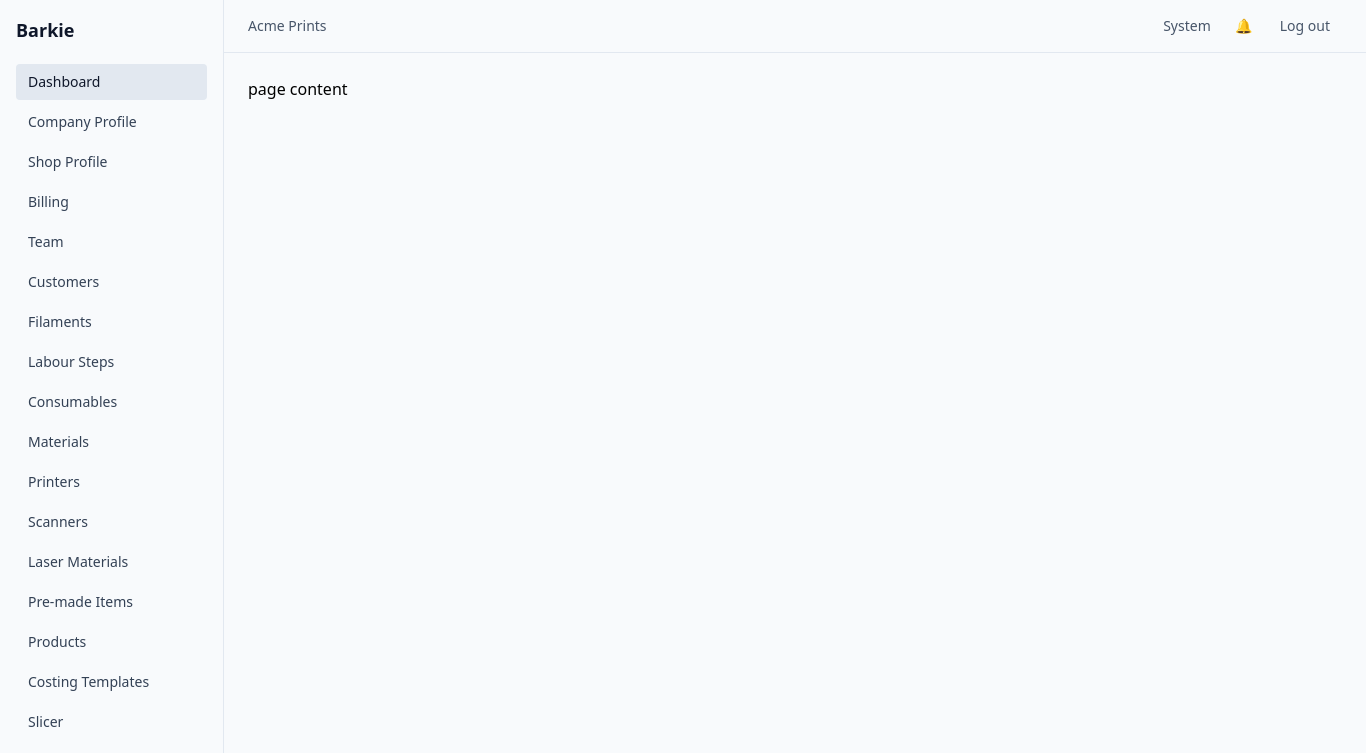
Test: AppShell › renders a theme toggle in the header and cycles its label when clicked
Expected: the text "Acme Prints" is shown, [248, 16, 327, 36]
Click the button with aria-label "Theme: System".
click(1187, 26)  # box [1155, 12, 1219, 40]
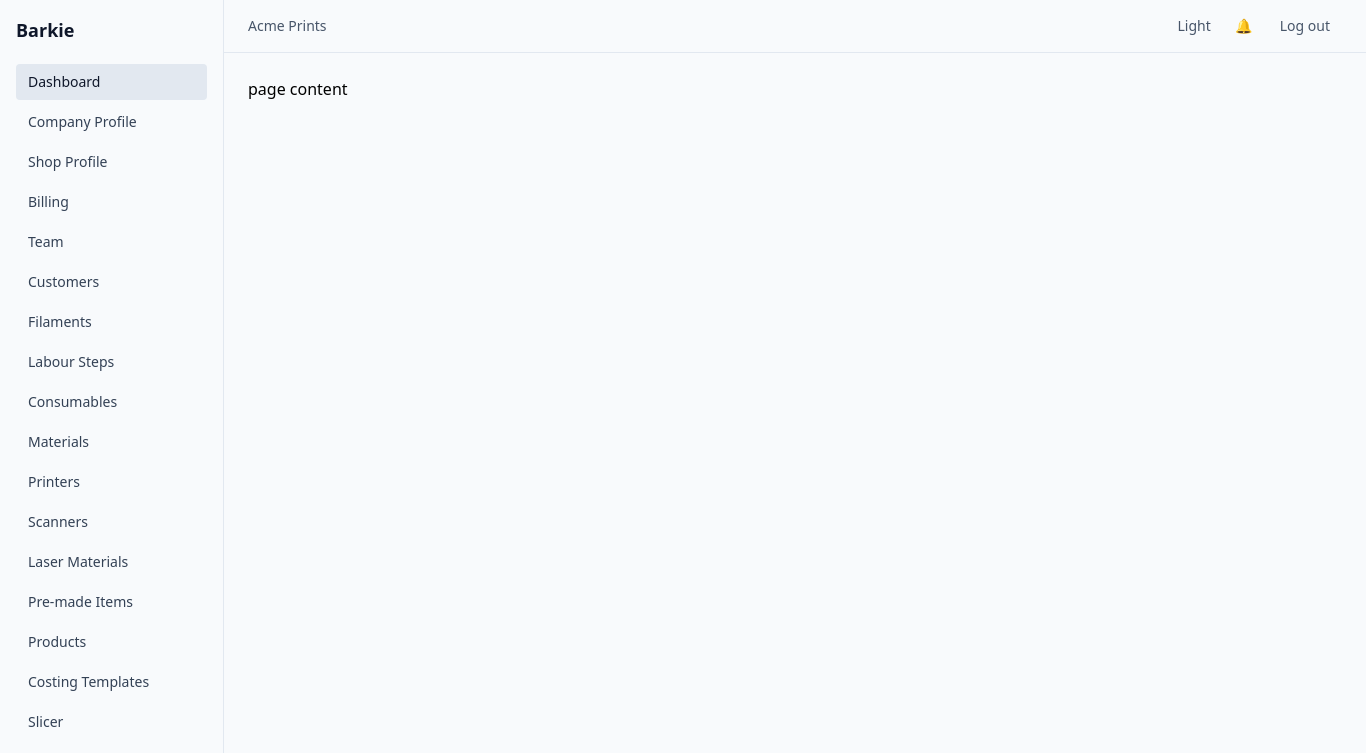
Now the button with aria-label "Theme: Light" reads "Light", box [1170, 12, 1219, 40]
